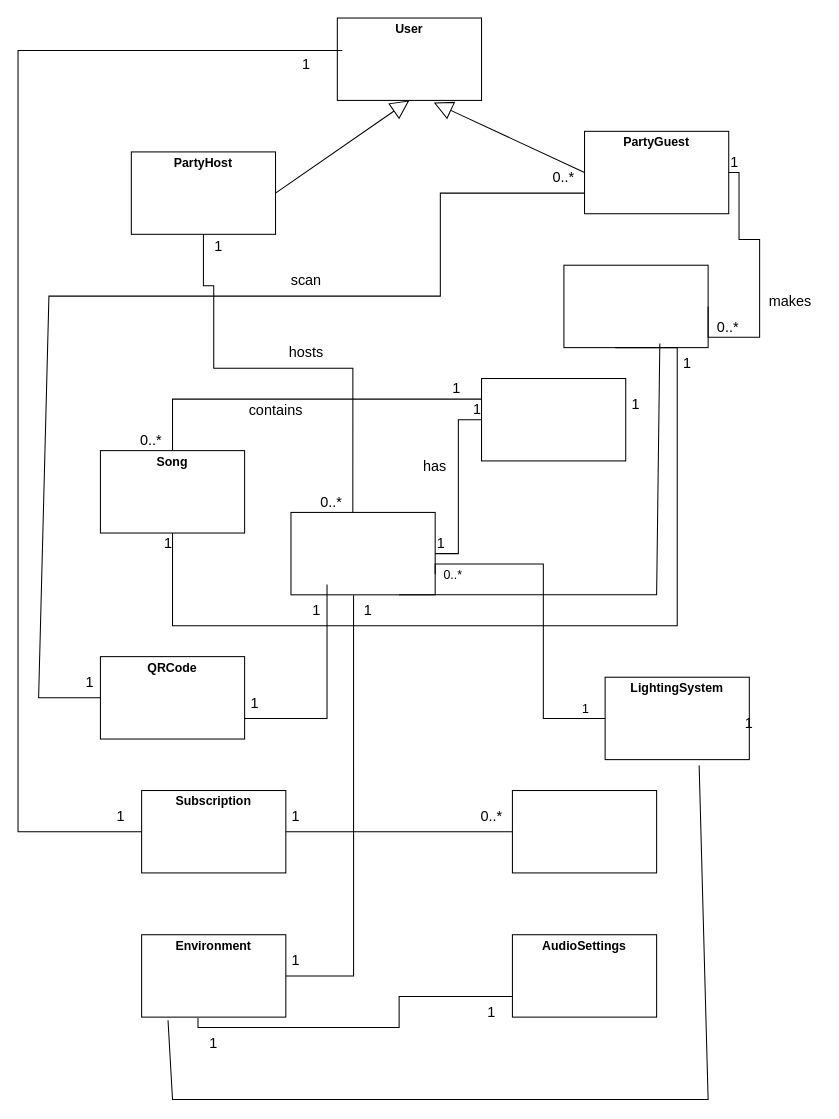
Image size: 839x1119. Some labels were removed from this diagram. The centre of each missing label's shape, as x and y in pixels:
"Party" belongs at (x=362, y=553).
"Payment" belongs at (x=584, y=831).
"Playlist" belongs at (x=553, y=419).
"SongRequest" belongs at (x=635, y=306).
